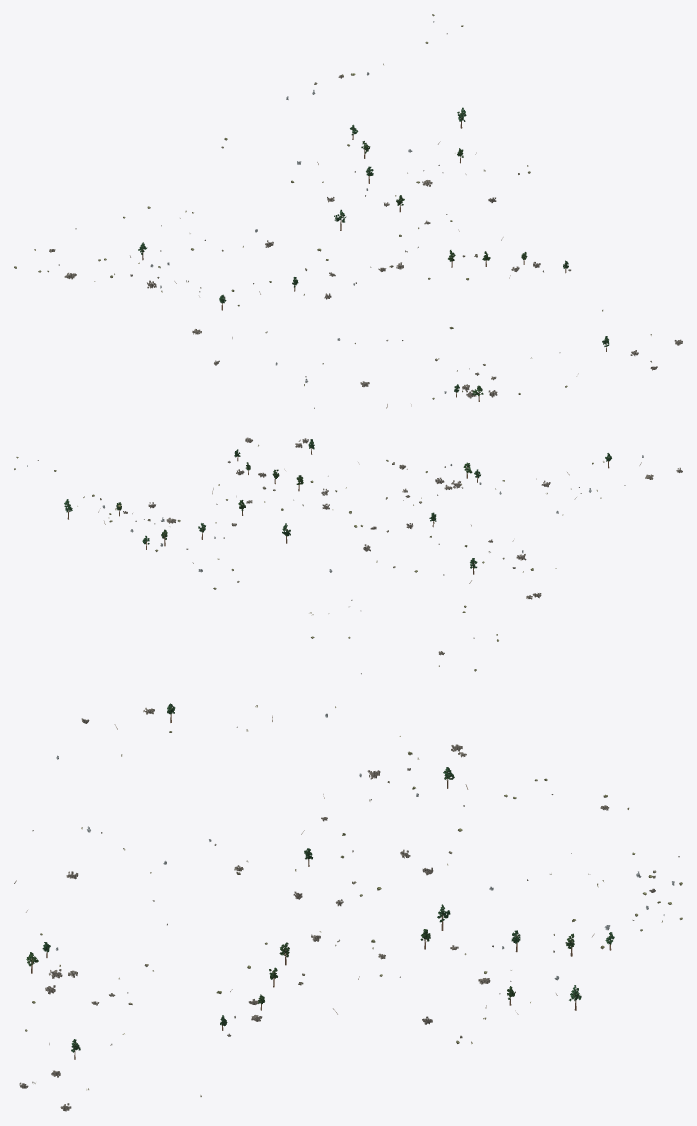
Rendered from coast_land_scatter_c10_21.glb.
3 views of the same model, one above another, from view 1: azimuth 30°, elevation 25°; view 2: azimuth 150°, elevation 25°; view 3: azimuth 270°, elevation 25° (orthographic). The views are drawn at different scales.
Parts seen in each view (by area): view 1: coast_land_scatter_c10_21; view 2: coast_land_scatter_c10_21; view 3: coast_land_scatter_c10_21.
Boxes of the visible parts, x1=… form: coast_land_scatter_c10_21: x1=14, y1=14, x2=682, y2=408; coast_land_scatter_c10_21: x1=14, y1=437, x2=682, y2=674; coast_land_scatter_c10_21: x1=14, y1=703, x2=682, y2=1111.
Size of the model in its own units: 256 by 80.4 by 249.
